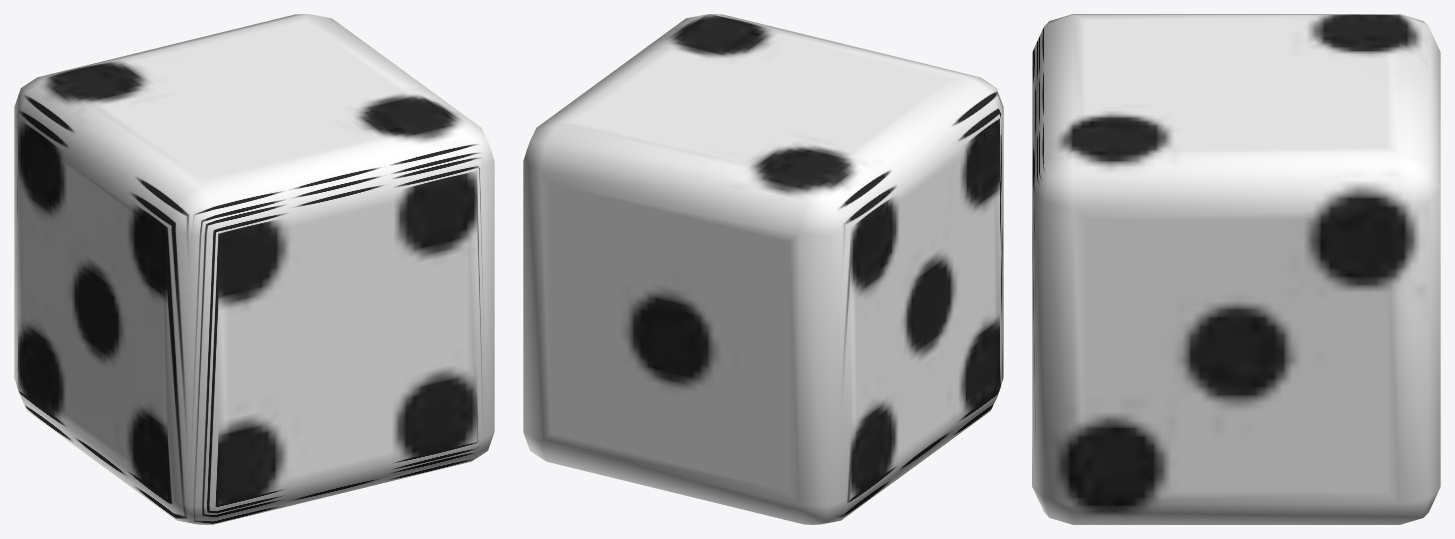
The model's file is die.gltf.
3 renders of one model, left to right at view 1: azimuth 30°, elevation 25°; view 2: azimuth 150°, elevation 25°; view 3: azimuth 270°, elevation 25°, orthographic. The views are drawn at different scales.
Visible parts, largest first — view 1: Dice; view 2: Dice; view 3: Dice.
Part boxes in pixels (<box>): Dice: <box>14,14,494,524</box>; Dice: <box>523,14,1003,524</box>; Dice: <box>1032,14,1440,524</box>.
Bounding box in the file's own units: 1 × 1 × 1.
Materials: 1 (1 with a texture image).
